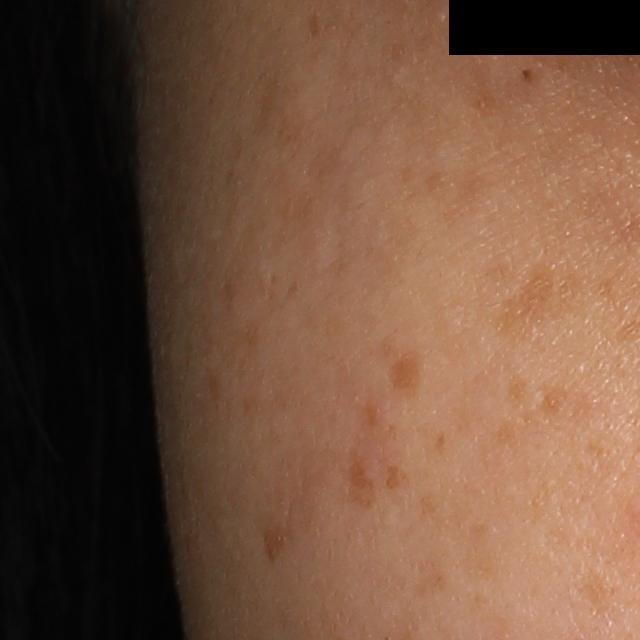melasma: (488, 264, 578, 352), (382, 349, 420, 406), (342, 448, 378, 507), (279, 93, 314, 153), (538, 382, 567, 418), (502, 375, 528, 408), (610, 317, 640, 344), (304, 7, 323, 41)
nevus: (520, 67, 533, 81)
